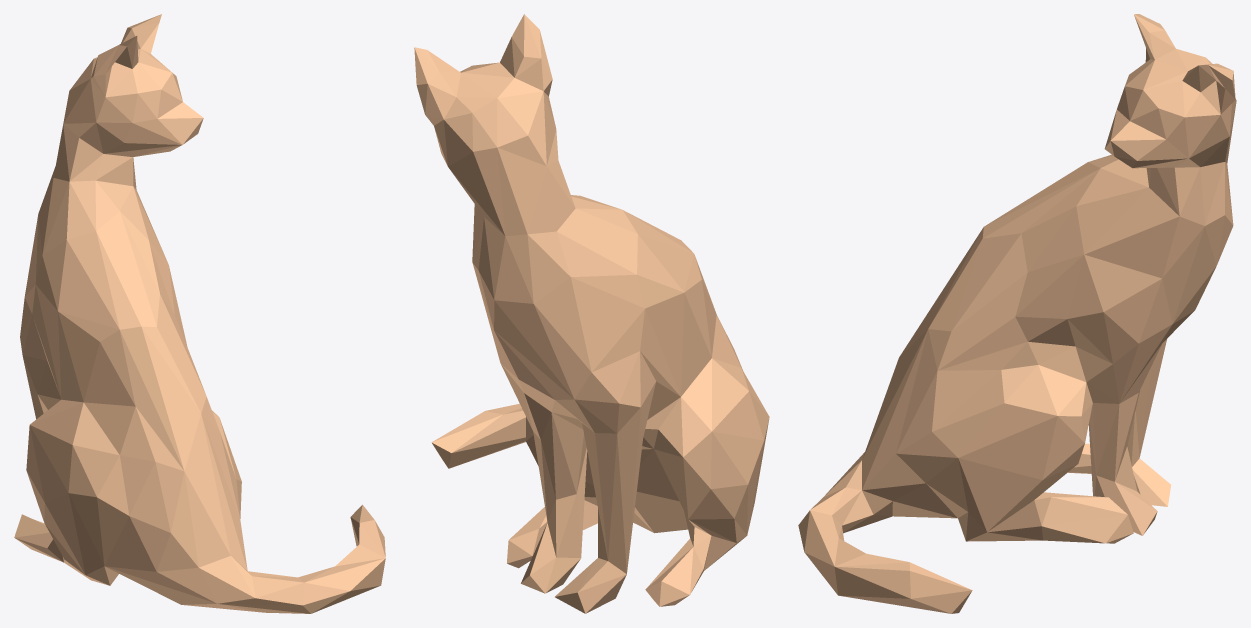
The model's file is cat.glb.
3 views of the same model, side by side, from view 1: azimuth 30°, elevation 25°; view 2: azimuth 150°, elevation 25°; view 3: azimuth 270°, elevation 25° (orthographic). The views are drawn at different scales.
Visible parts, largest first — view 1: Cat Sitting; view 2: Cat Sitting; view 3: Cat Sitting.
Boxes of the visible parts, bbox=[...] form: Cat Sitting: bbox=[14, 14, 385, 613]; Cat Sitting: bbox=[414, 14, 769, 613]; Cat Sitting: bbox=[798, 14, 1236, 613].
Bounding box in the file's own units: 4.17 × 6.49 × 4.92.
